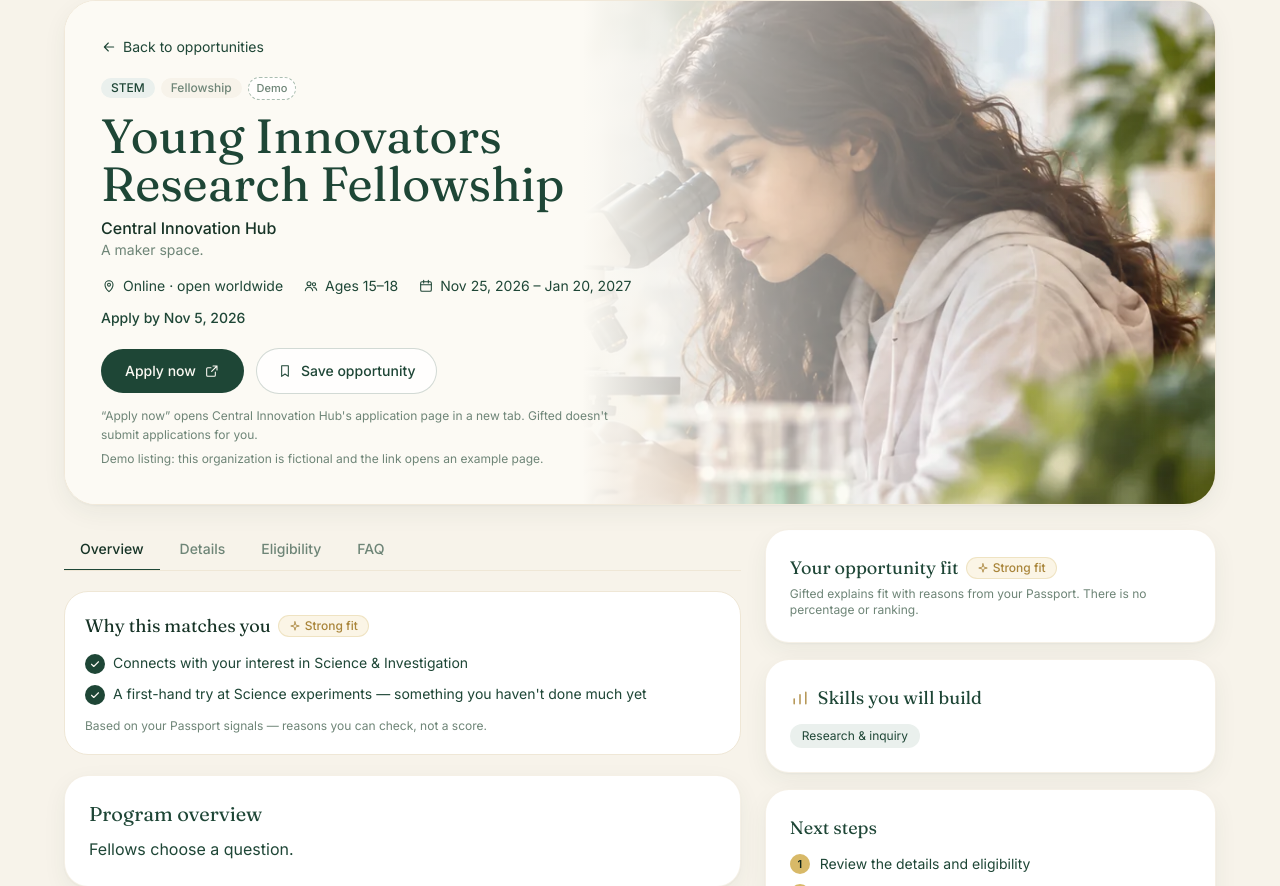
Test: Opportunities › detail records a view, and Apply opens the provider page and records only a link open
The width and height of the screenshot is (1280, 886).
Expected: the text "Demo listing" is shown, [101,450,544,466]
Expected: the text "Why this matches you" is shown, [85,612,271,640]
Step 1. Click the link "Apply now" → (172, 370), box [101,348,244,392]
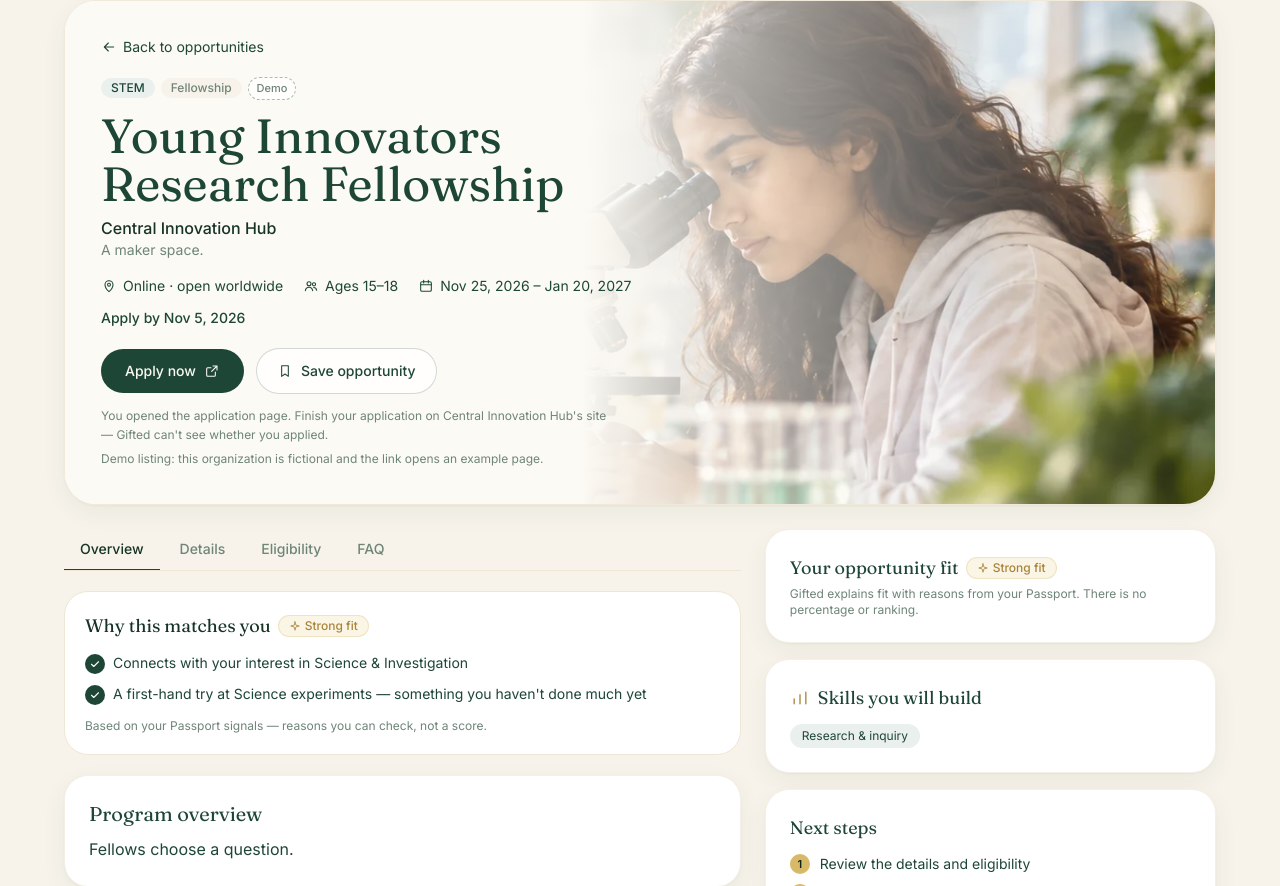
Now the text "You opened the application page" is shown, box [101,408,606,442]
Step 2. Click the tab "FAQ" → (371, 550), box [341,529,400,571]
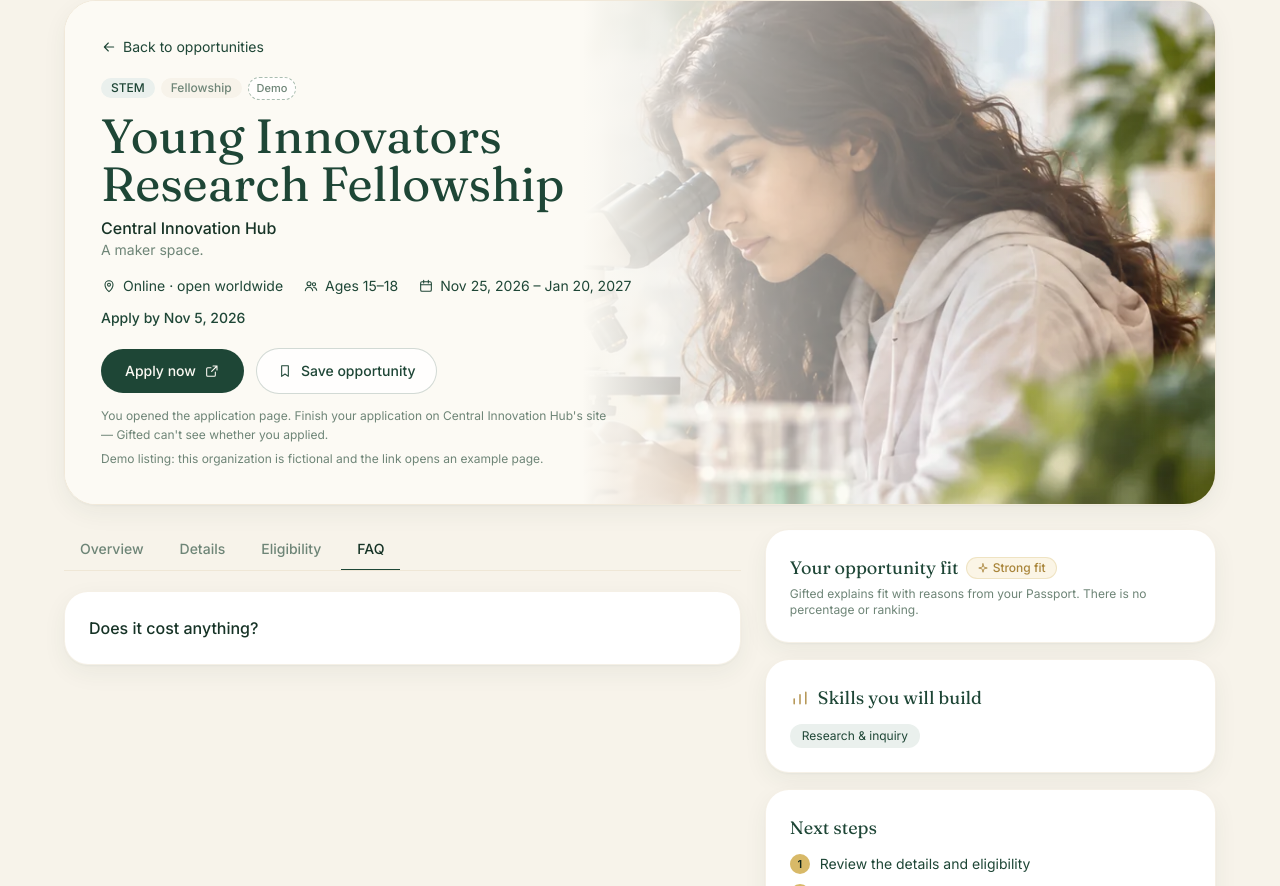
Now the heading "Does it cost anything?" is shown, box [89,618,258,638]
